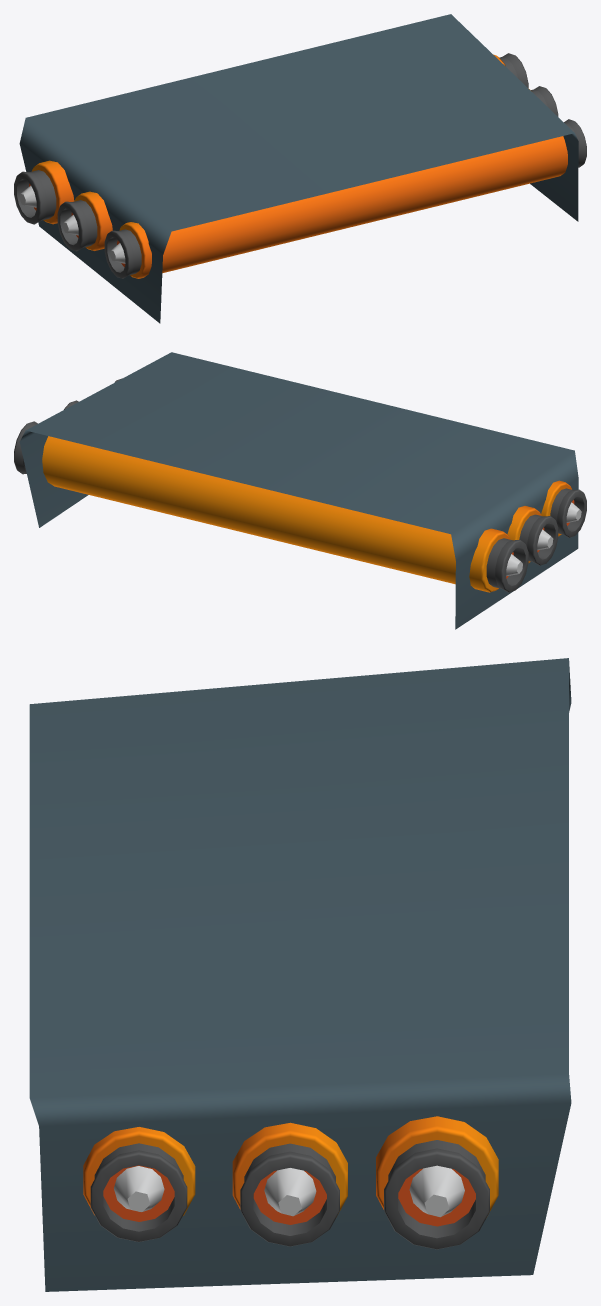
File: Car_08_Turbine.fbx
The picture shows the model from 3 angles, top to bottom: view 1: azimuth 30°, elevation 25°; view 2: azimuth 150°, elevation 25°; view 3: azimuth 270°, elevation 25°; orthographic projection. The views are drawn at different scales.
Parts seen in each view (by area): view 1: Car_08_Turbine; view 2: Car_08_Turbine; view 3: Car_08_Turbine.
Part boxes in pixels (box(x1,y1,x2,y2)): Car_08_Turbine: box(14, 14, 586, 323); Car_08_Turbine: box(14, 352, 586, 629); Car_08_Turbine: box(29, 658, 571, 1291).
Size of the model in its own units: 202 by 95.45 by 43.22.
